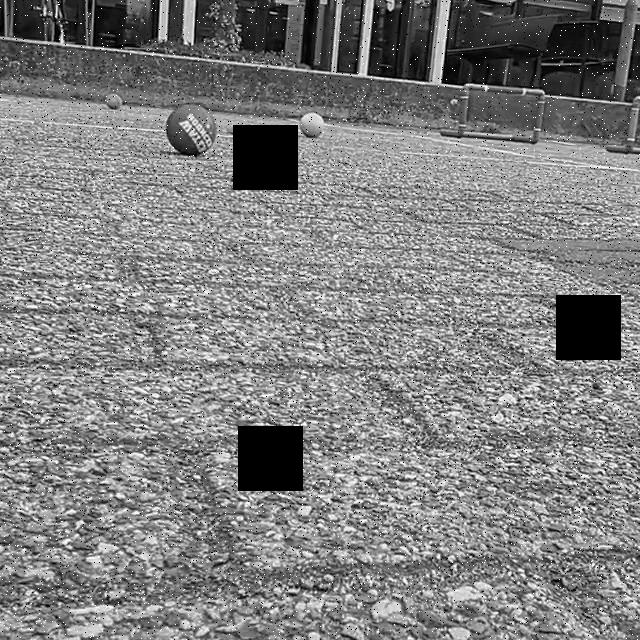ball: (298, 110, 324, 139)
